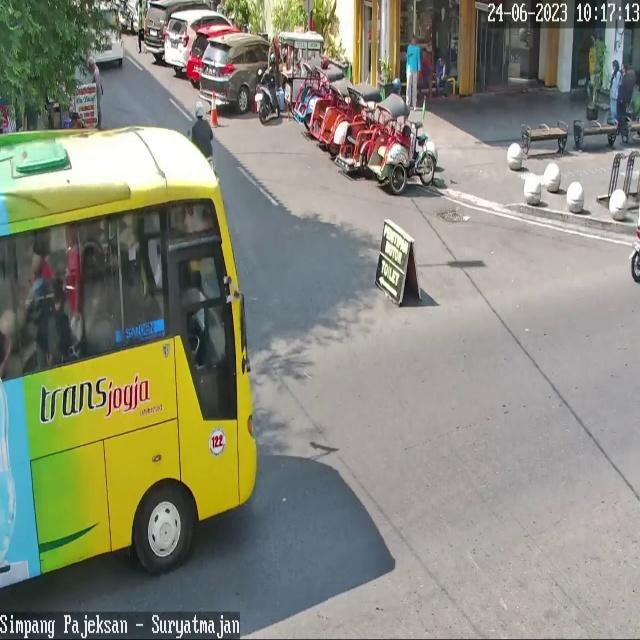car: (0, 125, 257, 589)
motorcycle: (201, 34, 281, 113), (164, 9, 233, 67), (144, 0, 212, 54), (186, 24, 242, 82), (87, 6, 124, 71)
